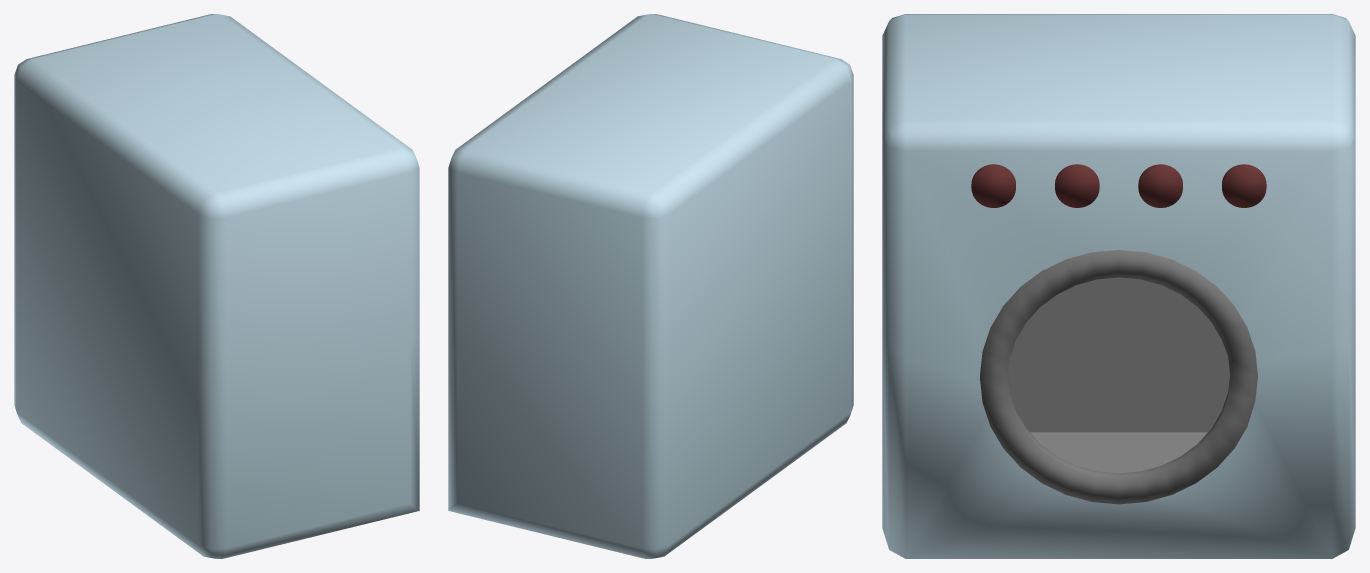
The model's file is pieza4Nave.fbx.
3 views of the same model, side by side, from view 1: azimuth 30°, elevation 25°; view 2: azimuth 150°, elevation 25°; view 3: azimuth 270°, elevation 25° (orthographic). The views are drawn at different scales.
Visible parts, largest first — view 1: Circle; view 2: Circle; view 3: Circle.
Part boxes in pixels (x1,y1,x2,y2): Circle: (14,14,419,558); Circle: (448,14,853,558); Circle: (882,14,1355,558).
Size of the model in its own units: 218 by 340 by 340.
